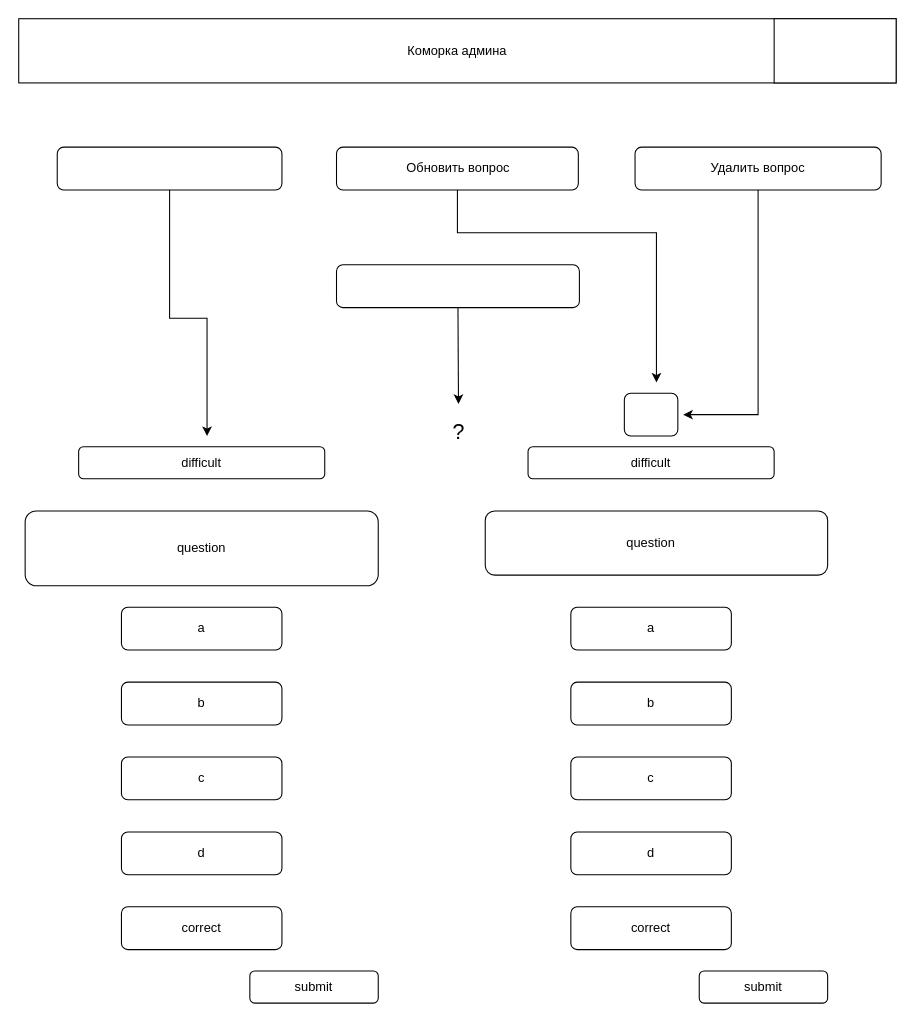
Some shapes in this 915 by 1022 pixel diagram are drawn without their labels. The shapes that lost their labels are listed below. From the top down, each one's centre as x and y in pixels, then its label:
the point at 834,50: Выход
the point at 169,168: Добавить вопрос
the point at 457,286: Посмотреть вопросы
the point at 650,414: id
